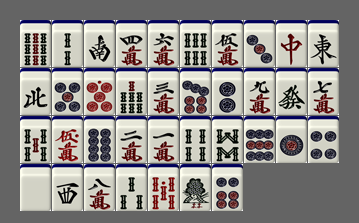0m: (52, 116, 83, 163)
0p: (84, 68, 115, 115)
0s: (148, 164, 179, 211)
1m: (148, 116, 179, 163)
1p: (276, 116, 307, 163)
1s: (180, 164, 211, 211)
1z: (308, 20, 339, 67)
2m: (116, 116, 147, 163)
2p: (212, 68, 243, 115)
2s: (52, 20, 83, 67)
2z: (84, 20, 115, 67)
3m: (148, 68, 179, 115)
3p: (244, 20, 275, 67)
3s: (116, 164, 147, 211)
3z: (52, 164, 83, 211)
4m: (116, 20, 147, 67)
4p: (308, 116, 339, 163)
4s: (180, 116, 211, 163)
4z: (20, 68, 51, 115)
5m: (212, 20, 243, 67)
5p: (52, 68, 83, 115)
5s: (20, 116, 51, 163)
5z: (20, 164, 51, 211)
6m: (148, 20, 179, 67)
6p: (212, 164, 243, 211)
6s: (180, 20, 211, 67)
6z: (276, 68, 307, 115)
7m: (308, 68, 339, 115)
7p: (180, 68, 211, 115)
7s: (116, 68, 147, 115)
7z: (276, 20, 307, 67)
8m: (84, 164, 115, 211)
8p: (84, 116, 115, 163)
8s: (212, 116, 243, 163)
9m: (244, 68, 275, 115)
9p: (244, 116, 275, 163)
9s: (20, 20, 51, 67)
